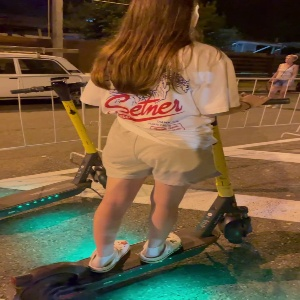human on a scooter: (5, 1, 291, 300)
